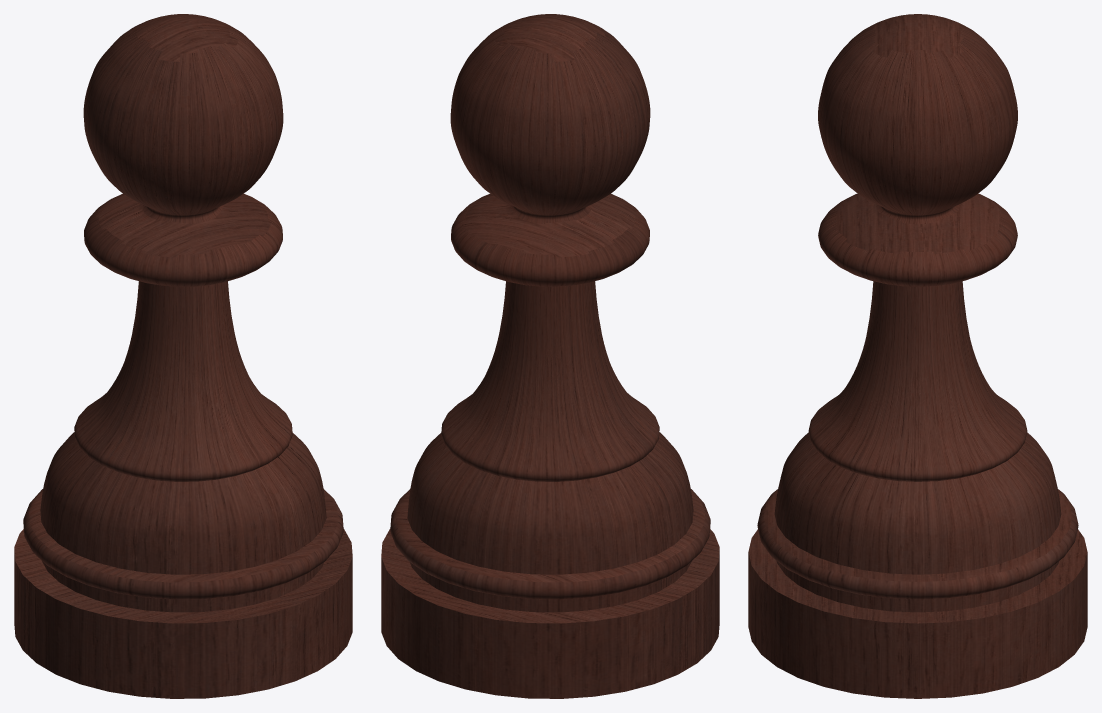
The model's file is black-pawn.glb.
The picture shows the model from 3 angles, left to right: view 1: azimuth 30°, elevation 25°; view 2: azimuth 150°, elevation 25°; view 3: azimuth 270°, elevation 25°; orthographic projection.
Visible parts, largest first — view 1: ScacchiBianchi_Pedone.012_Material #50_0; view 2: ScacchiBianchi_Pedone.012_Material #50_0; view 3: ScacchiBianchi_Pedone.012_Material #50_0.
Boxes of the visible parts, box(x1,y1,x2,y2) form: ScacchiBianchi_Pedone.012_Material #50_0: box(14, 14, 352, 698); ScacchiBianchi_Pedone.012_Material #50_0: box(381, 14, 719, 698); ScacchiBianchi_Pedone.012_Material #50_0: box(748, 14, 1087, 698).
Size of the model in its own units: 2.55 by 5 by 2.55.
1 material, 1 textured.
